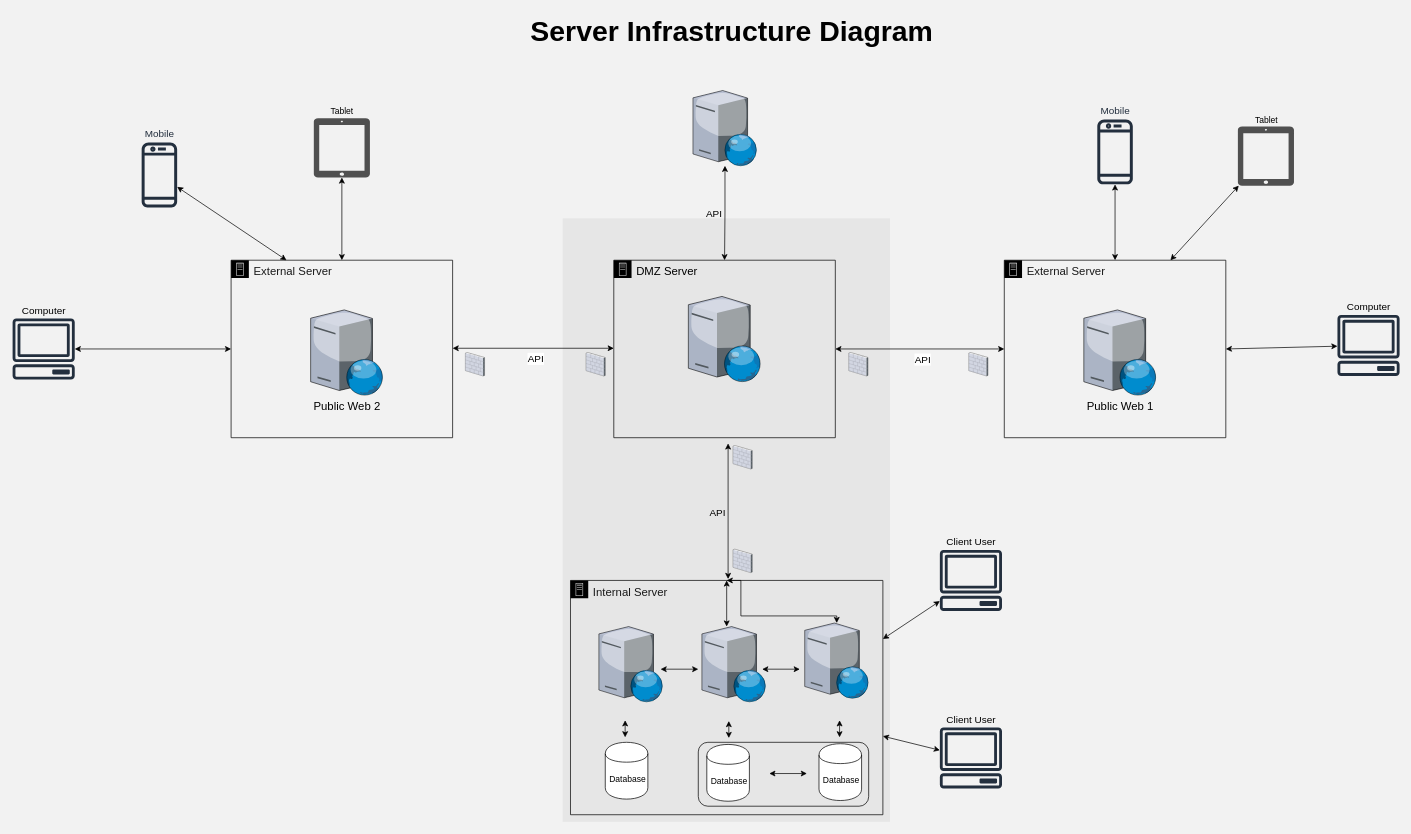
This 1411x834 diagram has some shape labels left out. Each missing label, with the centre of its shape:
"DMZ API" belongs at point 724,338.
"External API" belongs at point 725,127.
"Web" belongs at point 631,663.
"Web API 1" belongs at point 734,663.
"Web API 2" belongs at point 836,660.
